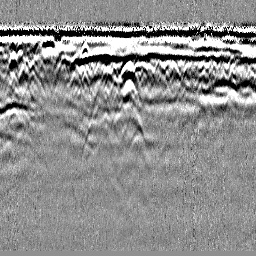cavity: (116, 57, 142, 89)
